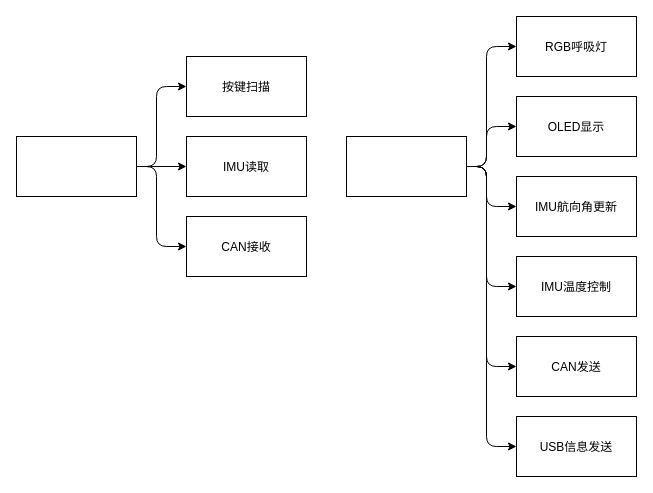
Image size: 653x493. Some labels were removed from this diagram. Each missing label, with the centre of its shape:
"逻辑级进程" goes at point (406, 166).
"驱动级进程" goes at point (76, 166).
